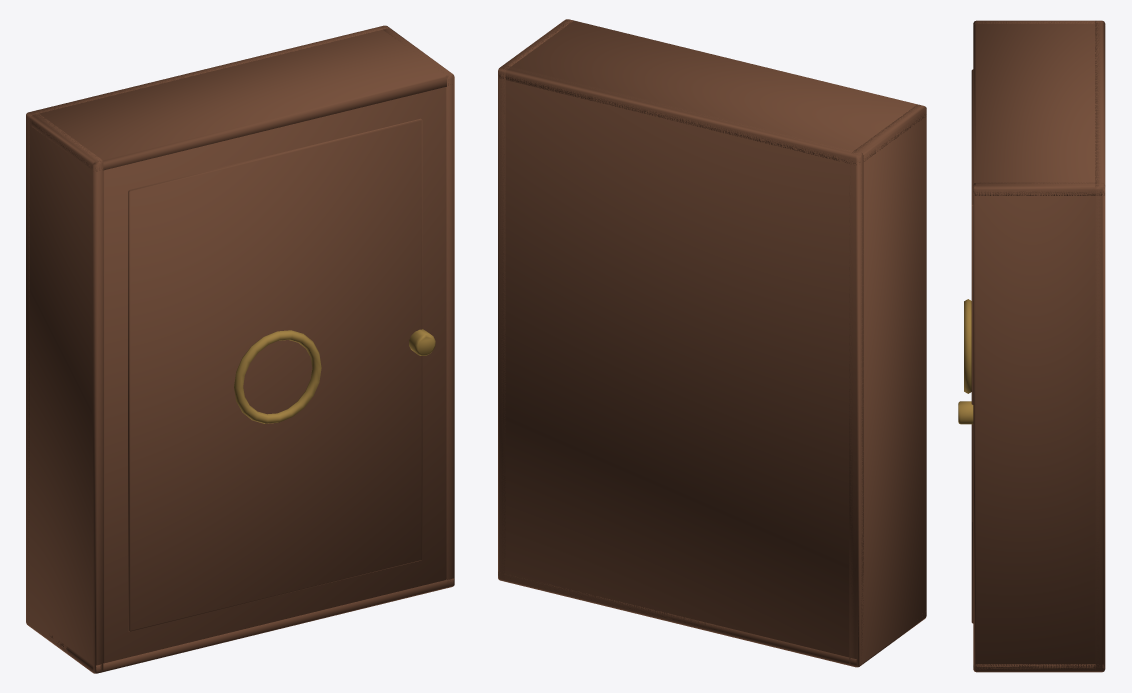
File: asset_097_key_cabinet.glb
The picture shows the model from 3 angles, left to right: view 1: azimuth 30°, elevation 25°; view 2: azimuth 150°, elevation 25°; view 3: azimuth 270°, elevation 25°; orthographic projection. The views are drawn at different scales.
Visible parts, largest first — view 1: MESH_KeyCabinetDoorInset, MESH_KeyCabinetSideL, MESH_KeyCabinetDoorPanel, MESH_KeyCabinetTop, MESH_KeyCabinetSideR, MESH_KeyCabinetBottom, MESH_KeyCabinetBack, MESH_KeyCabinetCrest; view 2: MESH_KeyCabinetBack, MESH_KeyCabinetSideL, MESH_KeyCabinetTop, MESH_KeyCabinetSideR, MESH_KeyCabinetBottom; view 3: MESH_KeyCabinetSideR, MESH_KeyCabinetTop, MESH_KeyCabinetBack, MESH_KeyCabinetDoorInset, MESH_KeyCabinetBottom, MESH_KeyCabinetCrest, MESH_KeyCabinetSideL, MESH_KeyCabinetLock.
Part boxes in pixels (bbox=[...]): MESH_KeyCabinetDoorInset: bbox=[128, 118, 422, 631]; MESH_KeyCabinetSideL: bbox=[26, 111, 103, 673]; MESH_KeyCabinetDoorPanel: bbox=[104, 87, 446, 663]; MESH_KeyCabinetTop: bbox=[29, 29, 453, 171]; MESH_KeyCabinetSideR: bbox=[380, 25, 454, 587]; MESH_KeyCabinetBottom: bbox=[26, 578, 454, 673]; MESH_KeyCabinetBack: bbox=[26, 25, 389, 624]; MESH_KeyCabinetCrest: bbox=[234, 330, 321, 423]; MESH_KeyCabinetBack: bbox=[498, 65, 863, 665]; MESH_KeyCabinetSideL: bbox=[849, 104, 926, 667]; MESH_KeyCabinetTop: bbox=[498, 19, 926, 164]; MESH_KeyCabinetSideR: bbox=[498, 19, 573, 580]; MESH_KeyCabinetBottom: bbox=[498, 571, 925, 667]; MESH_KeyCabinetSideR: bbox=[973, 182, 1105, 671]; MESH_KeyCabinetTop: bbox=[973, 20, 1104, 195]; MESH_KeyCabinetBack: bbox=[1095, 20, 1105, 670]; MESH_KeyCabinetDoorInset: bbox=[971, 69, 973, 623]; MESH_KeyCabinetBottom: bbox=[973, 664, 1104, 672]; MESH_KeyCabinetCrest: bbox=[964, 299, 971, 393]; MESH_KeyCabinetSideL: bbox=[973, 20, 1105, 25]; MESH_KeyCabinetLock: bbox=[958, 401, 973, 424].
Bounding box in the file's own units: 0.49 × 0.66 × 0.193.
